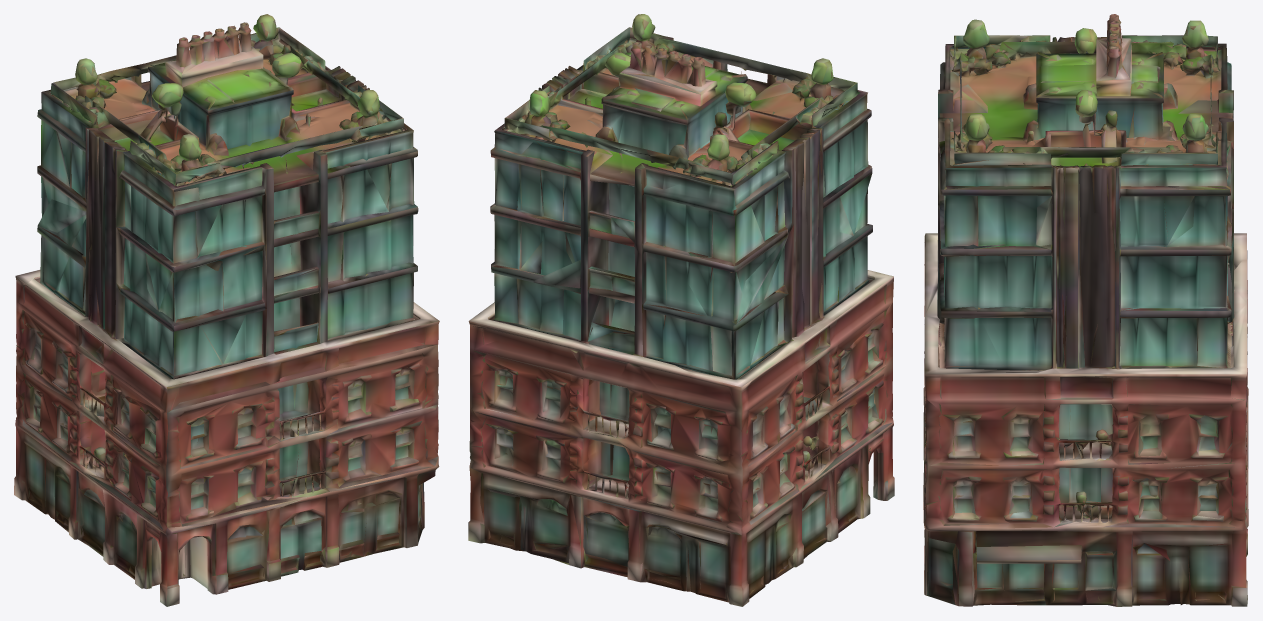
The model's file is mixed.glb.
3 views of the same model, side by side, from view 1: azimuth 30°, elevation 25°; view 2: azimuth 150°, elevation 25°; view 3: azimuth 270°, elevation 25° (orthographic). The views are drawn at different scales.
Visible parts, largest first — view 1: Mesh_0; view 2: Mesh_0; view 3: Mesh_0.
Boxes of the visible parts, <box> form: Mesh_0: <box>14,14,439,606</box>; Mesh_0: <box>468,14,894,606</box>; Mesh_0: <box>923,14,1248,606</box>.
Bounding box in the file's own units: 1.21 × 1.91 × 1.12.
1 material, 1 textured.
